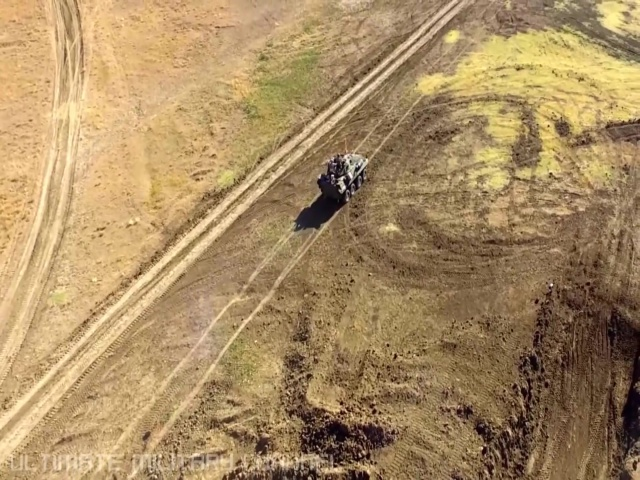vehicle: (318, 151, 368, 204)
